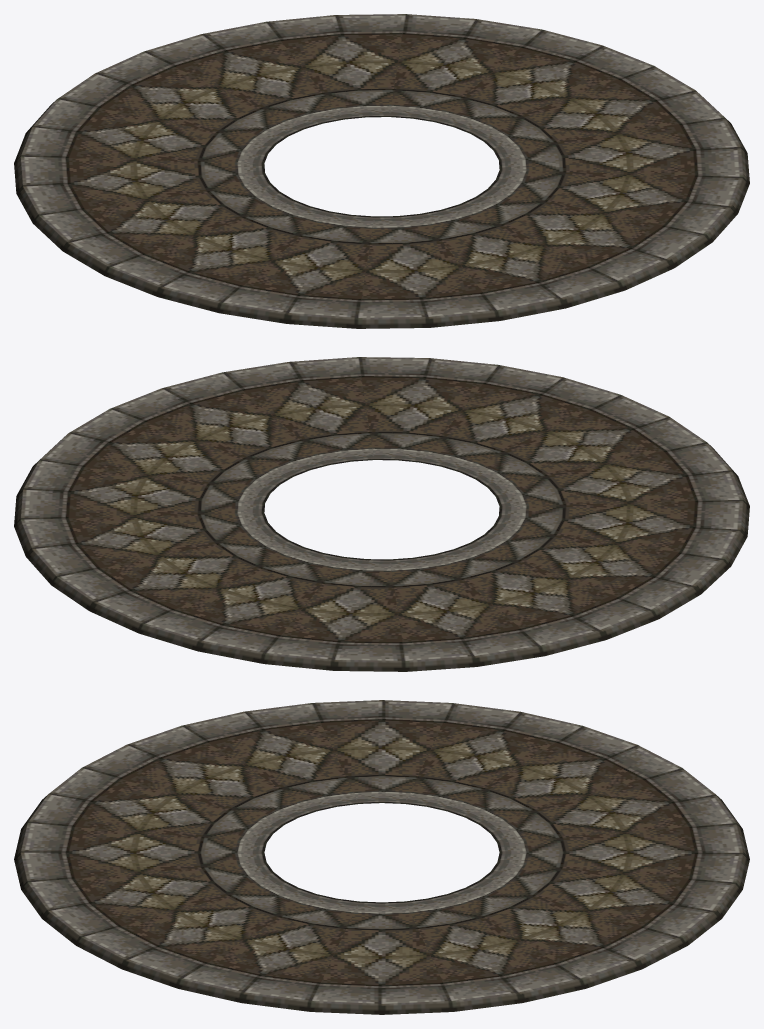
Rendered from EnvBdgMD_Courthouse_A_Indoor_Cylinder.FBX.
3 renders of one model, top to bottom at view 1: azimuth 30°, elevation 25°; view 2: azimuth 150°, elevation 25°; view 3: azimuth 270°, elevation 25°, orthographic.
Visible parts, largest first — view 1: EnvBdgMD_Courthouse_A_Indoor_Cylinder; view 2: EnvBdgMD_Courthouse_A_Indoor_Cylinder; view 3: EnvBdgMD_Courthouse_A_Indoor_Cylinder.
Boxes of the visible parts, <box> form: EnvBdgMD_Courthouse_A_Indoor_Cylinder: <box>14,14,749,328</box>; EnvBdgMD_Courthouse_A_Indoor_Cylinder: <box>14,357,749,671</box>; EnvBdgMD_Courthouse_A_Indoor_Cylinder: <box>14,700,749,1014</box>.
Size of the model in its own units: 1000 by 10 by 1000.
